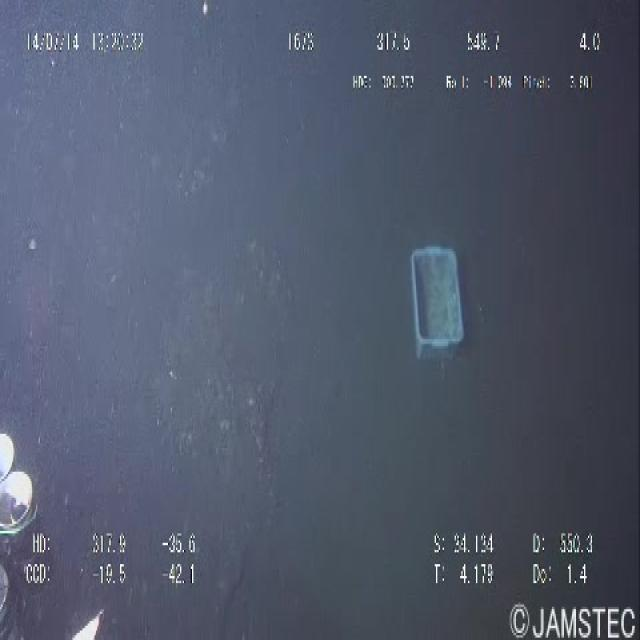plastic: (402, 213, 467, 374)
